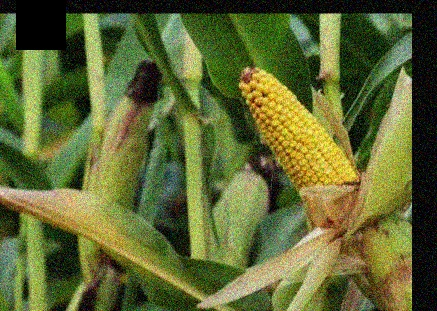corn: (233, 67, 376, 235)
corn_plant: (64, 52, 173, 277)
